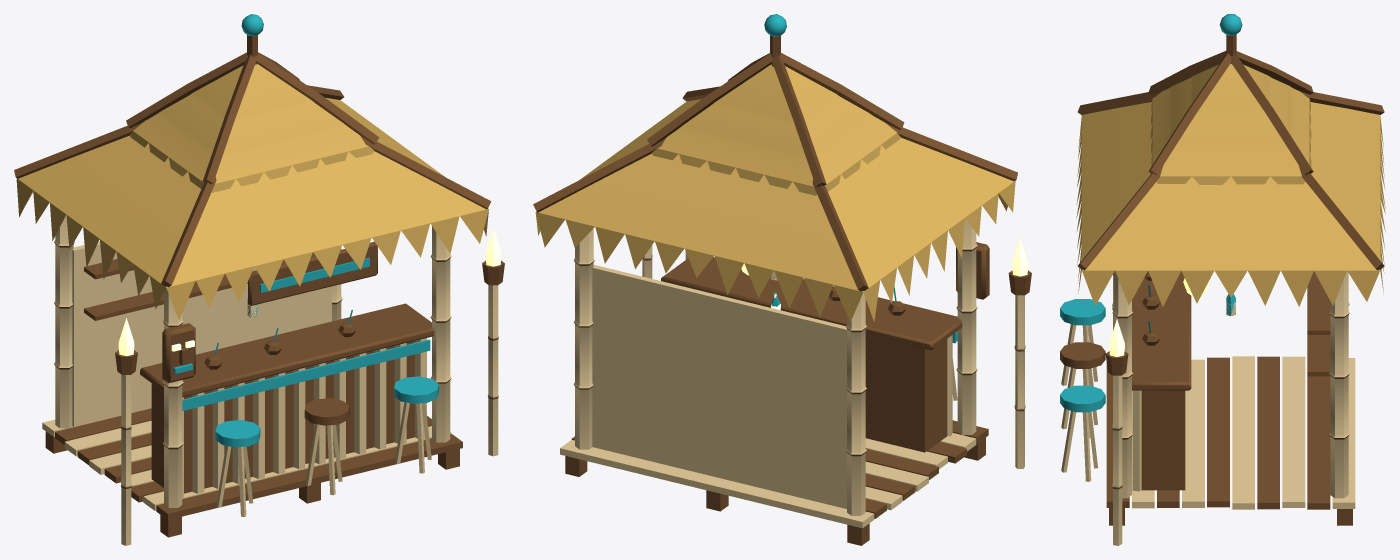
Rendered from tiki_bar.glb.
3 renders of one model, left to right at view 1: azimuth 30°, elevation 25°; view 2: azimuth 150°, elevation 25°; view 3: azimuth 270°, elevation 25°, orthographic. The views are drawn at different scales.
Visible parts, largest first — view 1: tiki_bar; view 2: tiki_bar; view 3: tiki_bar.
Boxes of the visible parts, x1,y1,x2,y2 form: tiki_bar: [14, 14, 504, 545]; tiki_bar: [533, 14, 1031, 545]; tiki_bar: [1060, 14, 1385, 545].
Bounding box in the file's own units: 3.87 × 4.26 × 2.86.
